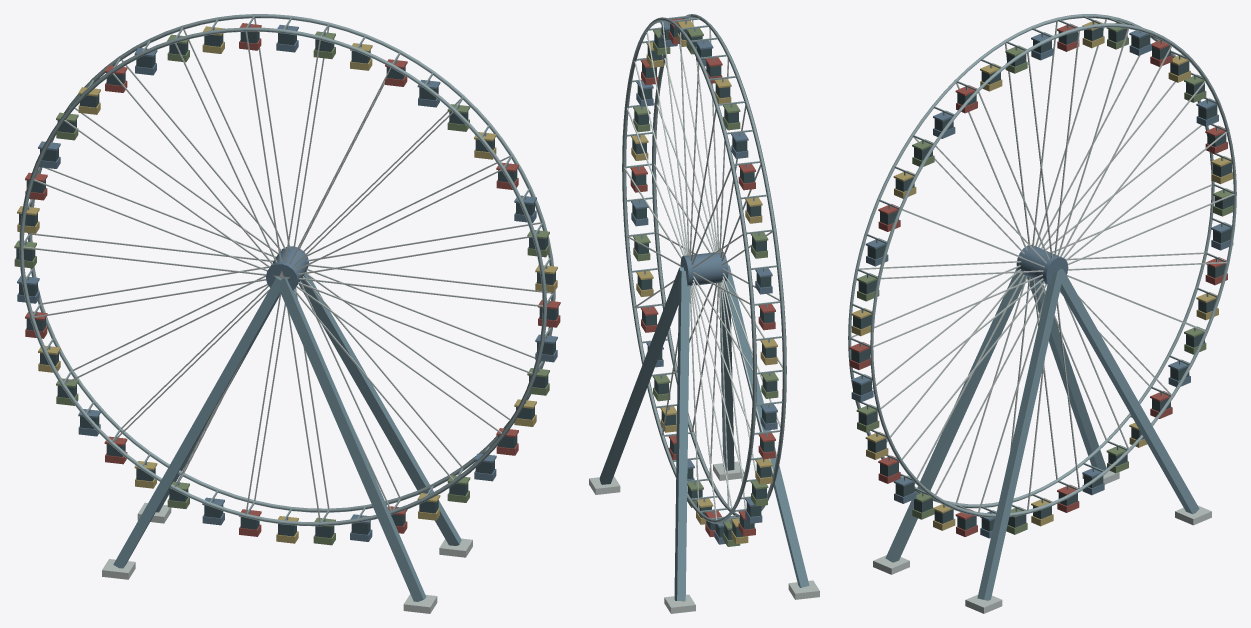
File: texas-star-ferris-wheel-far.glb
The picture shows the model from 3 angles, left to right: view 1: azimuth 30°, elevation 25°; view 2: azimuth 150°, elevation 25°; view 3: azimuth 270°, elevation 25°; orthographic projection. The views are drawn at different scales.
Parts seen in each view (by area): view 1: texas-star-ferris-wheel-0-spokes, texas-star-ferris-wheel-0-steel, texas-star-ferris-wheel-0-support, texas-star-ferris-wheel-0-glass, texas-star-ferris-wheel-0-blue, texas-star-ferris-wheel-0-gold, texas-star-ferris-wheel-0-green, texas-star-ferris-wheel-0-red; view 2: texas-star-ferris-wheel-0-spokes, texas-star-ferris-wheel-0-steel, texas-star-ferris-wheel-0-support, texas-star-ferris-wheel-0-glass, texas-star-ferris-wheel-0-blue, texas-star-ferris-wheel-0-gold, texas-star-ferris-wheel-0-green, texas-star-ferris-wheel-0-red; view 3: texas-star-ferris-wheel-0-spokes, texas-star-ferris-wheel-0-support, texas-star-ferris-wheel-0-steel, texas-star-ferris-wheel-0-glass, texas-star-ferris-wheel-0-blue, texas-star-ferris-wheel-0-red, texas-star-ferris-wheel-0-green, texas-star-ferris-wheel-0-gold.
Part boxes in pixels (x1,y1,x2,y2): texas-star-ferris-wheel-0-spokes: [23, 18, 551, 613]; texas-star-ferris-wheel-0-steel: [19, 14, 555, 526]; texas-star-ferris-wheel-0-support: [113, 271, 461, 601]; texas-star-ferris-wheel-0-glass: [16, 31, 558, 538]; texas-star-ferris-wheel-0-blue: [17, 24, 557, 541]; texas-star-ferris-wheel-0-gold: [17, 26, 557, 543]; texas-star-ferris-wheel-0-green: [14, 31, 549, 545]; texas-star-ferris-wheel-0-red: [25, 23, 560, 536]; texas-star-ferris-wheel-0-spokes: [589, 18, 819, 613]; texas-star-ferris-wheel-0-steel: [622, 14, 786, 524]; texas-star-ferris-wheel-0-support: [599, 263, 809, 601]; texas-star-ferris-wheel-0-glass: [631, 23, 777, 540]; texas-star-ferris-wheel-0-blue: [631, 22, 777, 544]; texas-star-ferris-wheel-0-gold: [631, 20, 777, 544]; texas-star-ferris-wheel-0-green: [633, 28, 778, 546]; texas-star-ferris-wheel-0-red: [630, 18, 775, 537]; texas-star-ferris-wheel-0-spokes: [851, 19, 1234, 613]; texas-star-ferris-wheel-0-support: [885, 268, 1199, 600]; texas-star-ferris-wheel-0-steel: [848, 14, 1236, 517]; texas-star-ferris-wheel-0-glass: [851, 27, 1233, 531]; texas-star-ferris-wheel-0-blue: [851, 30, 1233, 538]; texas-star-ferris-wheel-0-red: [849, 23, 1227, 536]; texas-star-ferris-wheel-0-green: [856, 21, 1233, 534]; texas-star-ferris-wheel-0-gold: [851, 20, 1233, 530].
Size of the model in its own units: 44.62 by 64.77 by 44.62.
